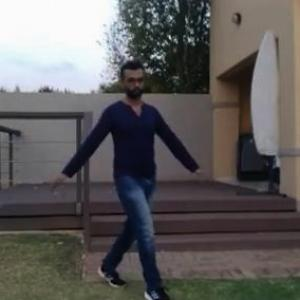land: (55, 63, 192, 288)
